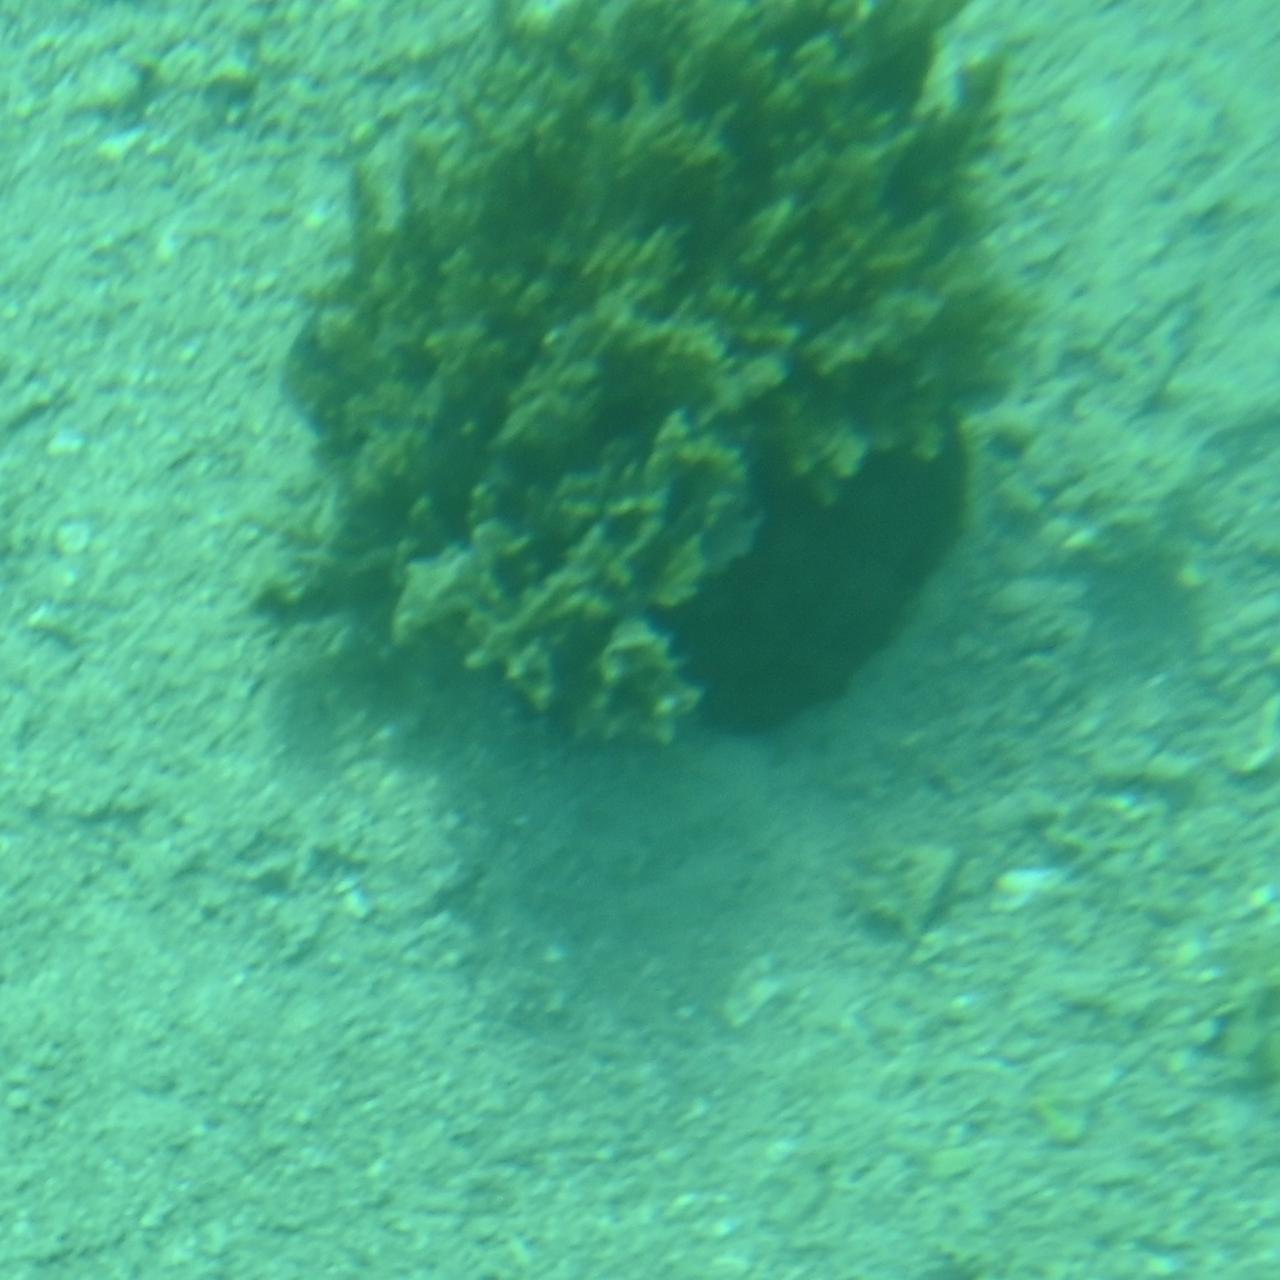Phaeophyceae -cfr Cystoseira-: (234, 0, 1046, 772)
